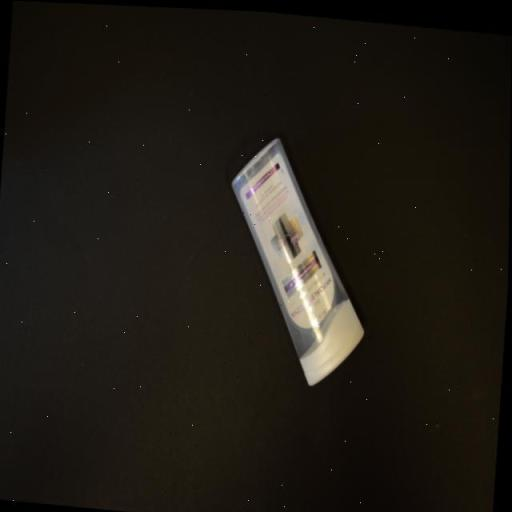plastic: (219, 130, 380, 395)
